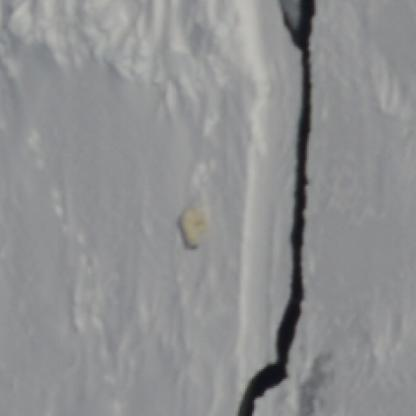polar-bear: (177, 206, 207, 249)
